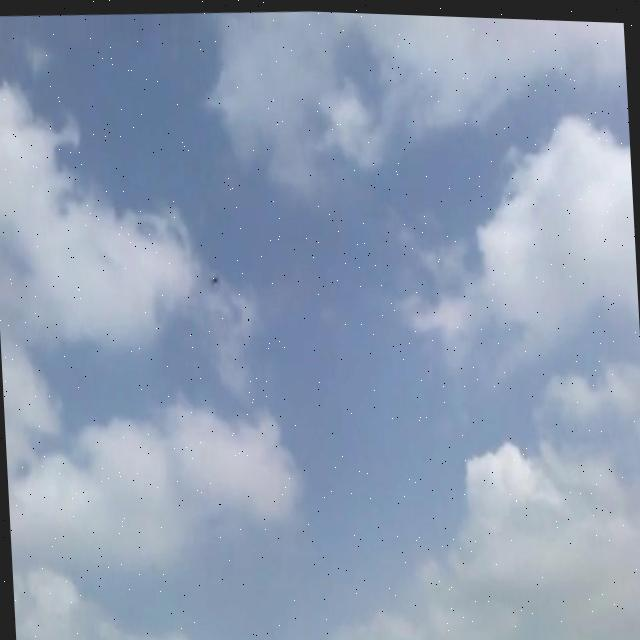drone: (208, 264, 222, 288)
